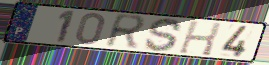0: (73, 11, 107, 46)
1: (55, 10, 77, 44)
4: (219, 24, 249, 59)
H: (176, 19, 224, 57)
R: (102, 13, 149, 51)
S: (143, 17, 184, 53)
